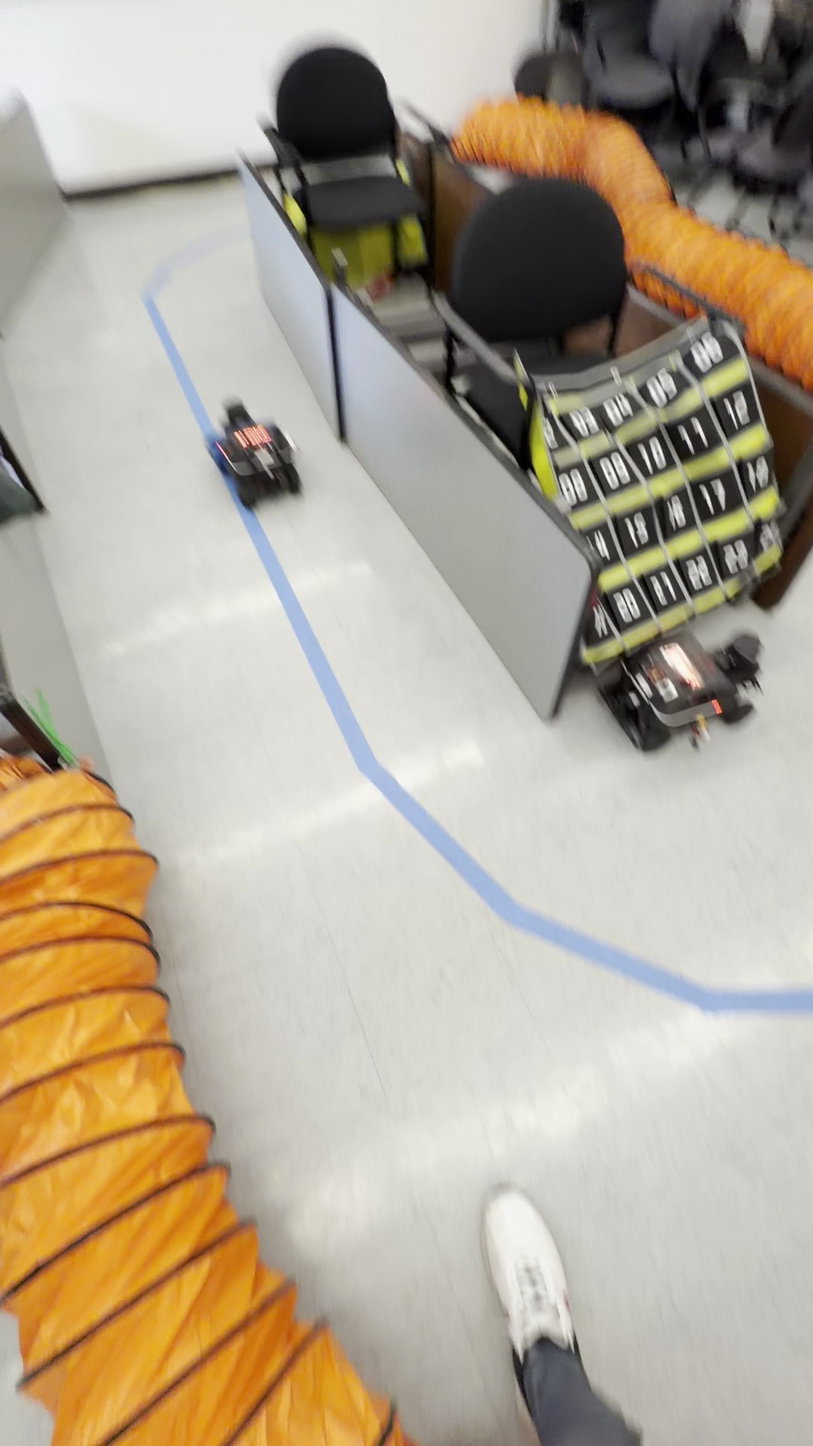racecar: (599, 626, 757, 752), (207, 400, 301, 508)
